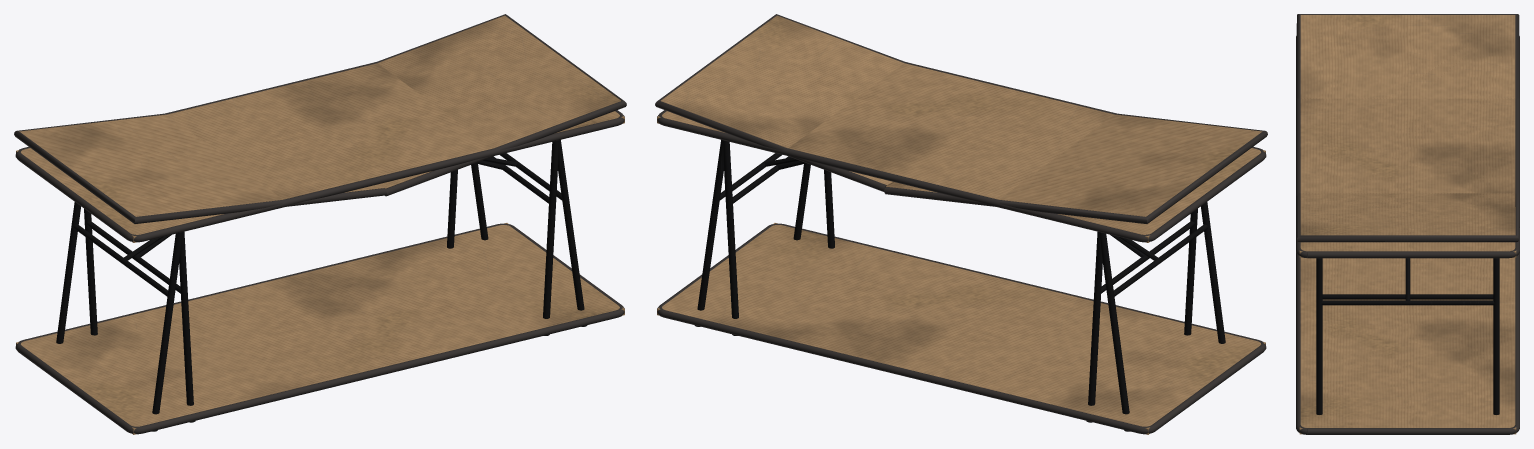
The model's file is table.glb.
3 views of the same model, side by side, from view 1: azimuth 30°, elevation 25°; view 2: azimuth 150°, elevation 25°; view 3: azimuth 270°, elevation 25° (orthographic). The views are drawn at different scales.
Visible parts, largest first — view 1: Table_Folded_top, Table_Broken, Table_Up_top, Table_Folded_trim, Table_Up_legs, Table_Up_trim, Table_Broken__piece_00_trim, Table_Broken__piece_01_trim; view 2: Table_Folded_top, Table_Broken, Table_Up_top, Table_Folded_trim, Table_Up_legs, Table_Up_trim, Table_Broken__piece_00_trim, Table_Broken__piece_01_trim; view 3: Table_Folded_top, Table_Broken, Table_Up_top, Table_Folded_trim, Table_Up_trim, Table_Broken__piece_01_trim, Table_Broken__piece_00_trim, Table_Up_legs.
Part boxes in pixels (bbox=[...]): Table_Folded_top: bbox=[16, 223, 624, 434]; Table_Broken: bbox=[19, 15, 620, 431]; Table_Up_top: bbox=[16, 63, 624, 242]; Table_Folded_trim: bbox=[15, 223, 624, 434]; Table_Up_legs: bbox=[84, 140, 558, 422]; Table_Up_trim: bbox=[15, 62, 624, 242]; Table_Broken__piece_00_trim: bbox=[14, 113, 386, 223]; Table_Broken__piece_01_trim: bbox=[376, 14, 626, 196]; Table_Folded_top: bbox=[657, 223, 1265, 434]; Table_Broken: bbox=[661, 15, 1262, 431]; Table_Up_top: bbox=[657, 63, 1265, 242]; Table_Folded_trim: bbox=[657, 223, 1266, 434]; Table_Up_legs: bbox=[723, 140, 1197, 422]; Table_Up_trim: bbox=[657, 62, 1266, 242]; Table_Broken__piece_00_trim: bbox=[884, 113, 1267, 223]; Table_Broken__piece_01_trim: bbox=[655, 14, 904, 191]; Table_Folded_top: bbox=[1299, 257, 1516, 434]; Table_Broken: bbox=[1300, 15, 1515, 414]; Table_Up_top: bbox=[1299, 98, 1516, 257]; Table_Folded_trim: bbox=[1296, 252, 1519, 434]; Table_Up_trim: bbox=[1296, 36, 1519, 258]; Table_Broken__piece_01_trim: bbox=[1296, 193, 1519, 242]; Table_Broken__piece_00_trim: bbox=[1296, 14, 1519, 98]; Table_Up_legs: bbox=[1322, 294, 1493, 299].
Size of the model in its own units: 1.85 by 0.8114 by 0.7838.
3 materials, 2 textured.
